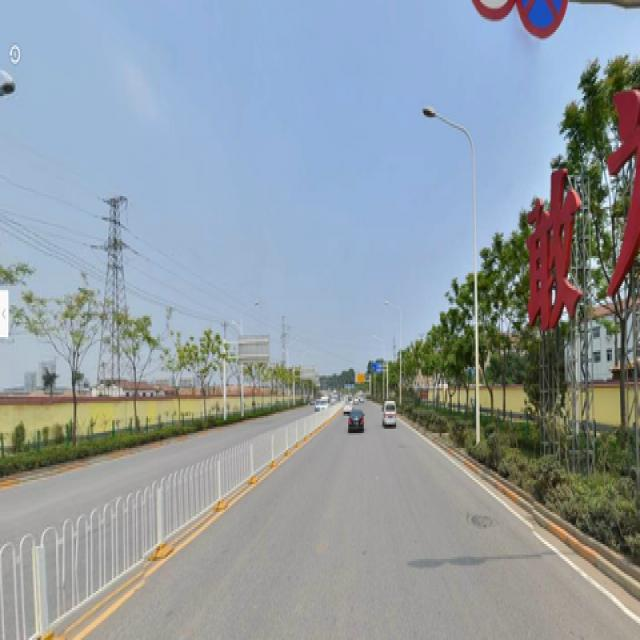koel: (51, 290, 88, 431), (111, 322, 148, 423), (176, 322, 201, 429)
